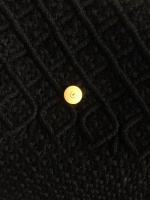Nurofen: (62, 84, 83, 105)
